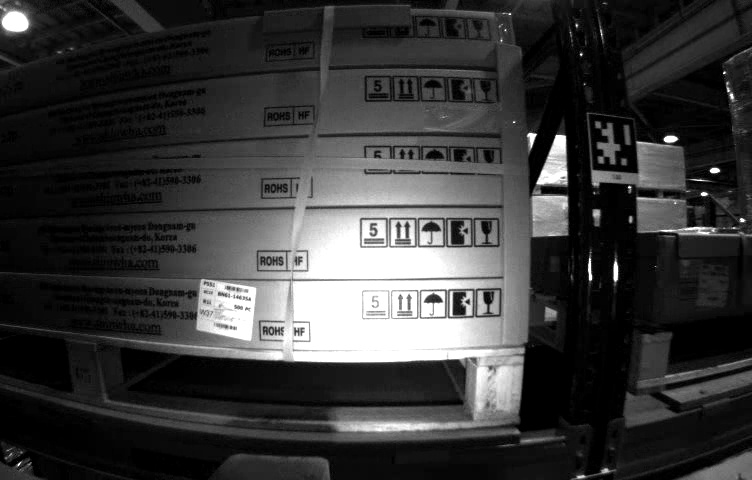True Barcode: (194, 274, 255, 348), (700, 262, 728, 308)
